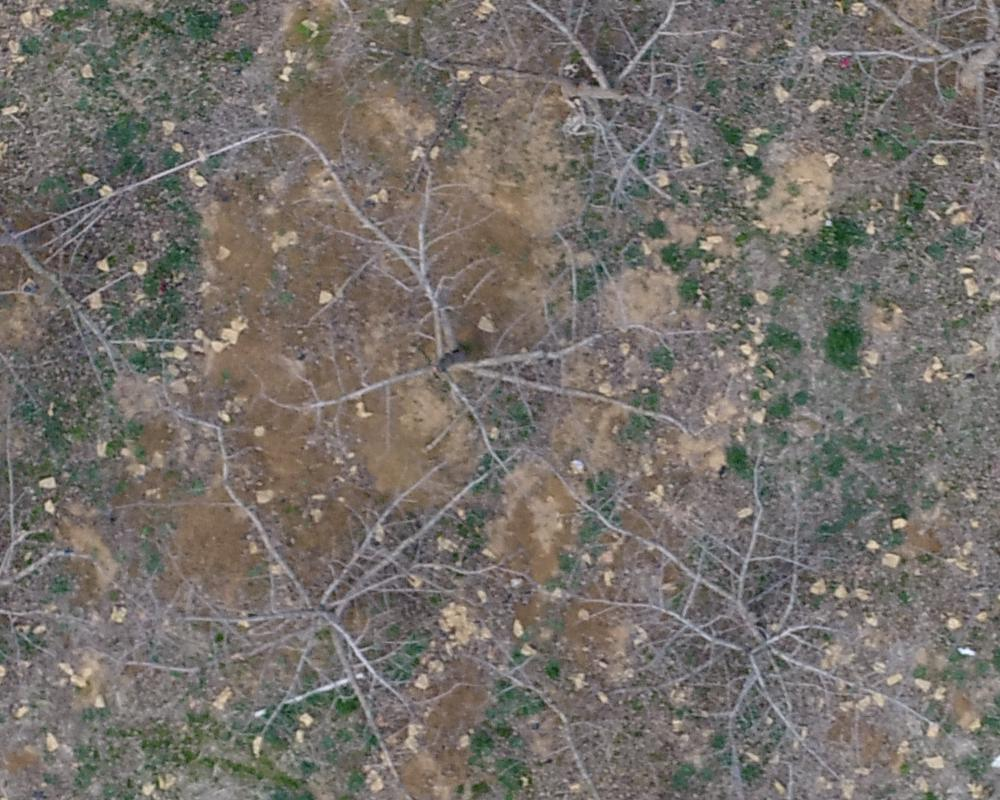apple: (274, 109, 708, 504), (87, 402, 525, 789), (552, 451, 954, 790), (10, 48, 287, 398), (377, 10, 735, 209)
